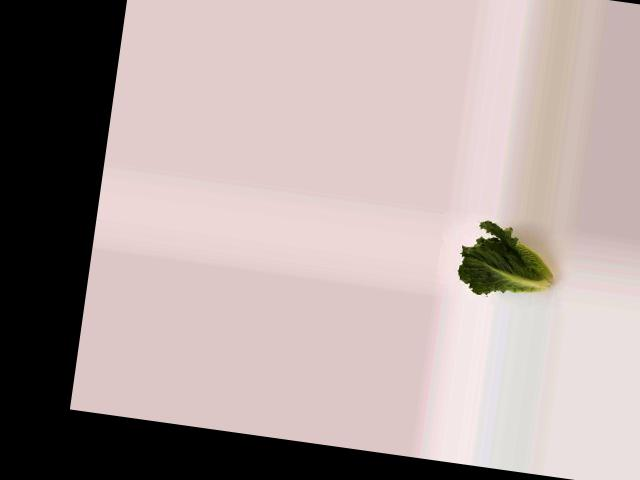lettuce: (452, 221, 570, 308)
